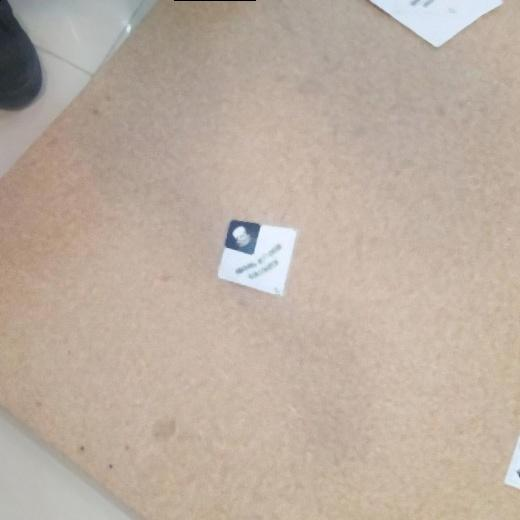poison: (213, 218, 300, 299)
